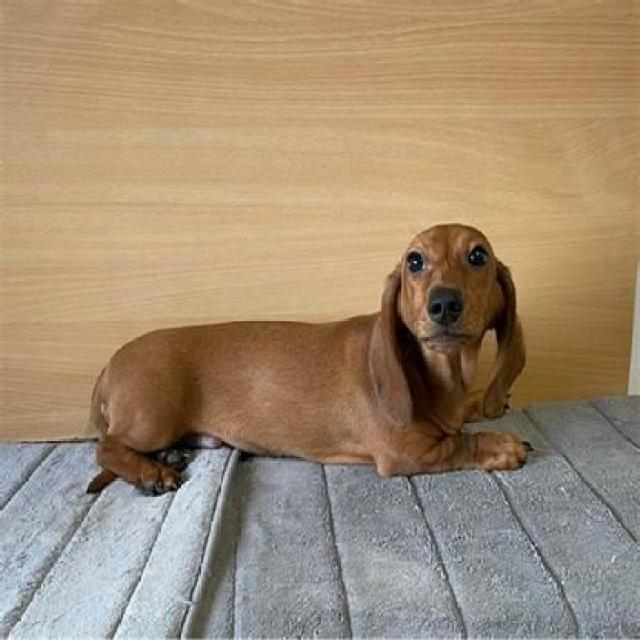Dog: (84, 220, 536, 506)
